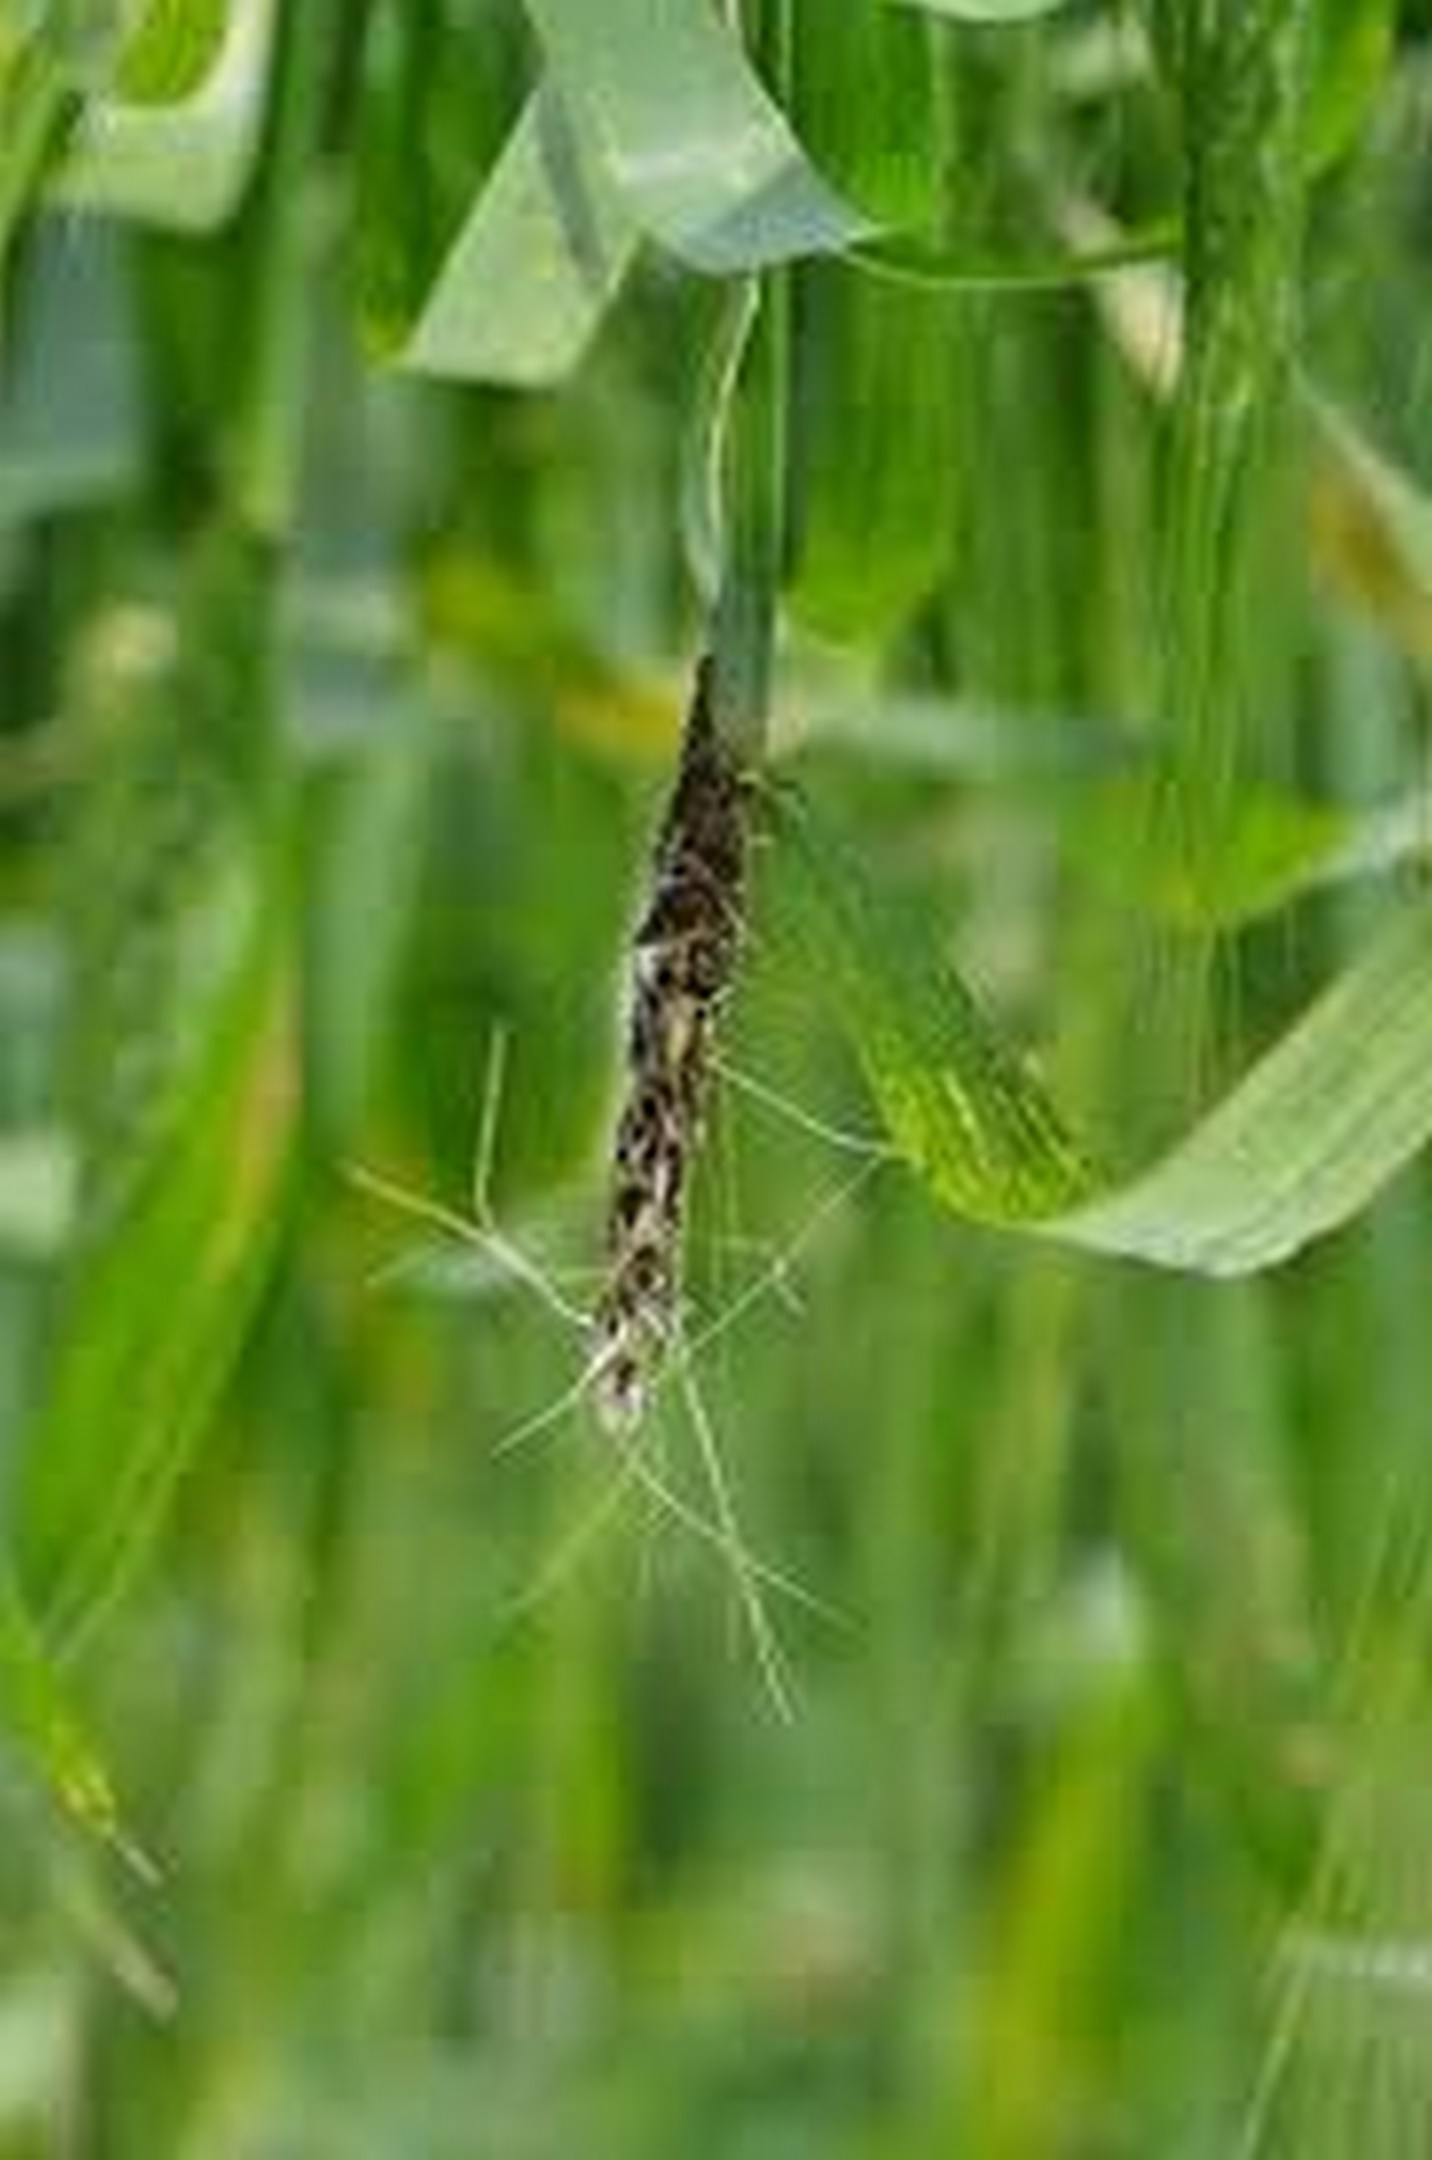Wheat Loose Smut: (551, 687, 810, 1449)
